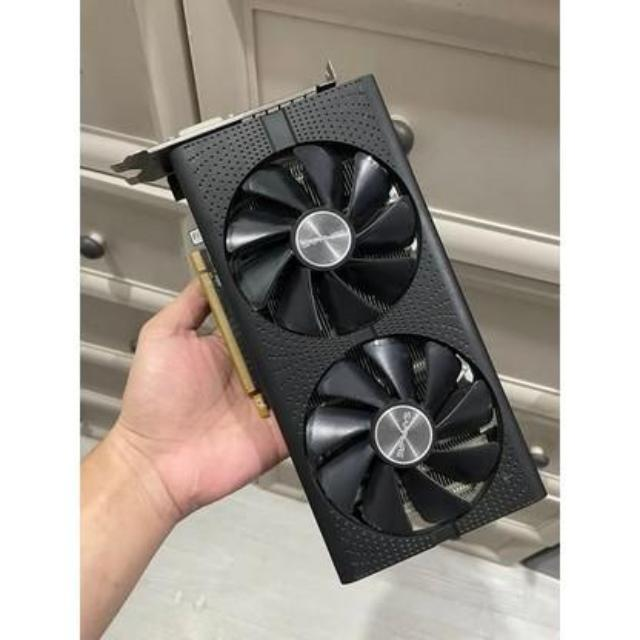GPU: (168, 71, 546, 594)
